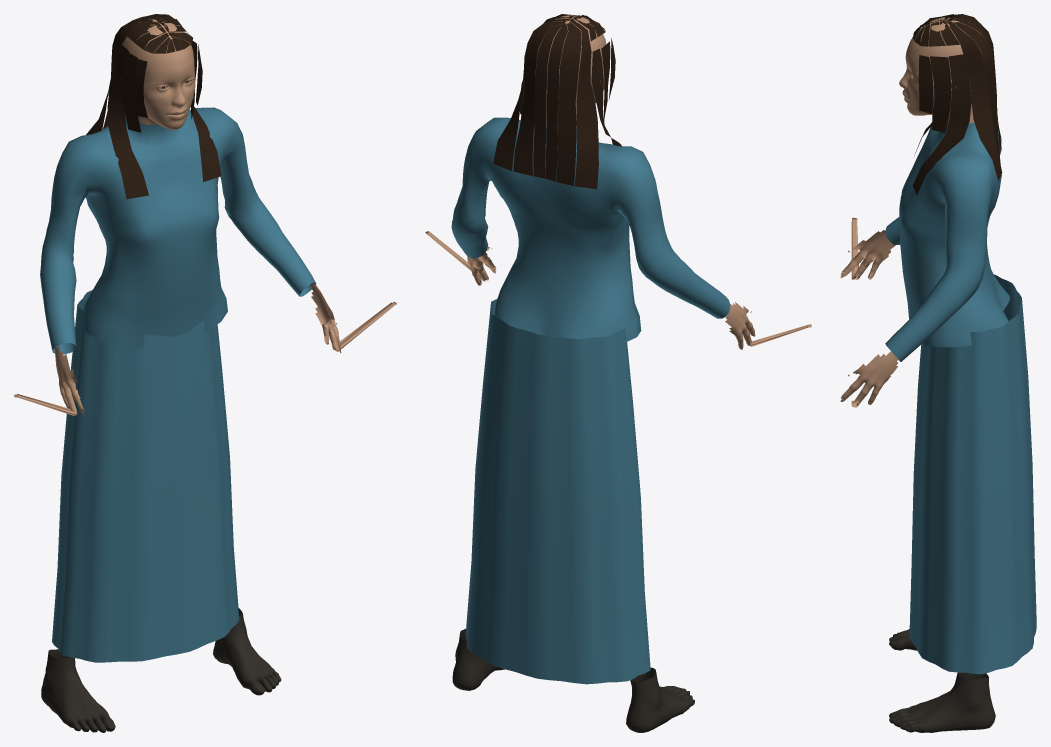
The model's file is Companion.glb.
3 views of the same model, side by side, from view 1: azimuth 30°, elevation 25°; view 2: azimuth 150°, elevation 25°; view 3: azimuth 270°, elevation 25° (orthographic).
Visible parts, largest first — view 1: Adult_beach_companion; view 2: Adult_beach_companion; view 3: Adult_beach_companion.
Boxes of the visible parts, left/top/right/bottom form: Adult_beach_companion: left=14, top=14, right=396, bottom=732; Adult_beach_companion: left=425, top=14, right=811, bottom=732; Adult_beach_companion: left=840, top=14, right=1036, bottom=732.
Bounding box in the file's own units: 1.04 × 1.75 × 0.4693.
